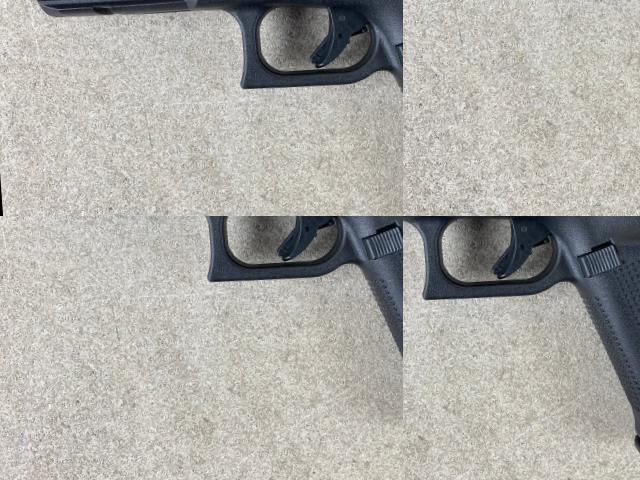handgun: (0, 216, 403, 406), (403, 216, 640, 480), (403, 0, 640, 182), (66, 0, 334, 139)
